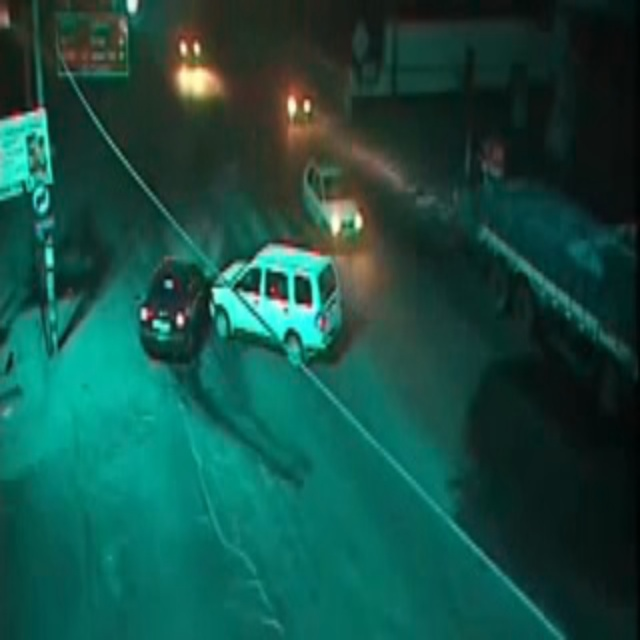acc: (133, 240, 338, 370)
